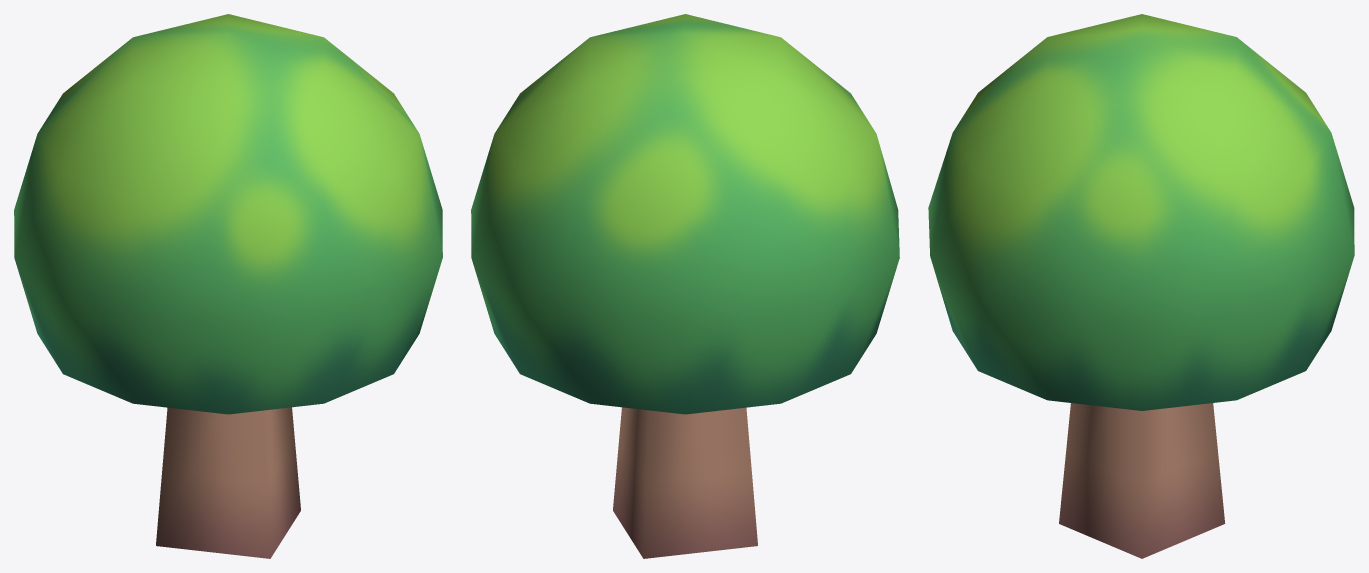
Rendered from tree.fbx.
3 views of the same model, side by side, from view 1: azimuth 30°, elevation 25°; view 2: azimuth 150°, elevation 25°; view 3: azimuth 270°, elevation 25° (orthographic).
Parts seen in each view (by area): view 1: leef, wood; view 2: leef, wood; view 3: leef, wood.
Boxes of the visible parts, x1,y1,x2,y2 form: leef: [14, 14, 442, 414]; wood: [156, 407, 300, 558]; leef: [471, 14, 899, 414]; wood: [613, 407, 757, 558]; leef: [928, 14, 1354, 410]; wood: [1059, 403, 1225, 558].
Size of the model in its own units: 128 by 163 by 128.
Materials: 1 (1 with a texture image).
